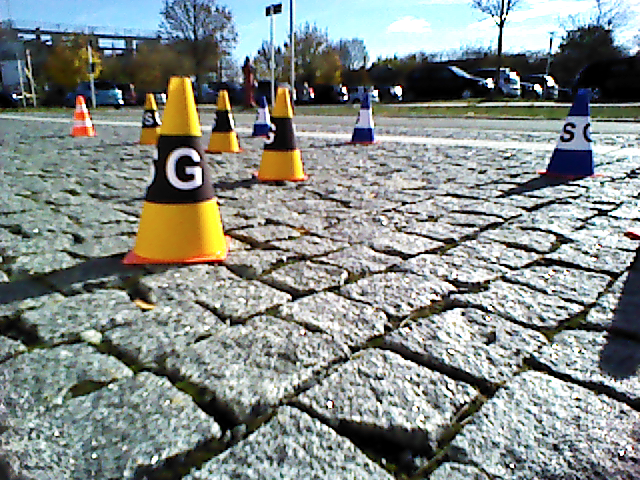bluecone: (548, 91, 596, 175), (352, 96, 376, 142), (253, 95, 271, 137)
orangeconesmall: (70, 95, 96, 137)
yellowcone: (134, 79, 226, 253), (262, 87, 304, 178), (207, 92, 241, 150), (140, 94, 162, 145)
